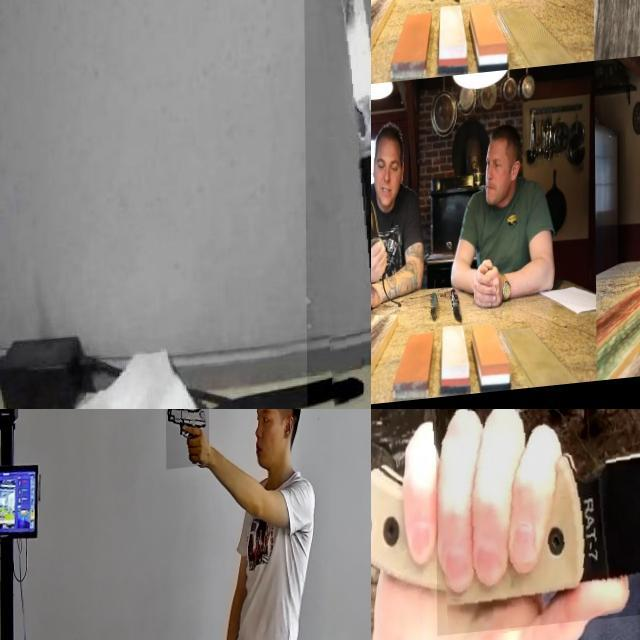-: (435, 409, 640, 637), (303, 0, 371, 409), (371, 185, 389, 262), (371, 0, 401, 30)
gun-knife-thesis - v11 Yolov5 augmented: (165, 409, 209, 473)
